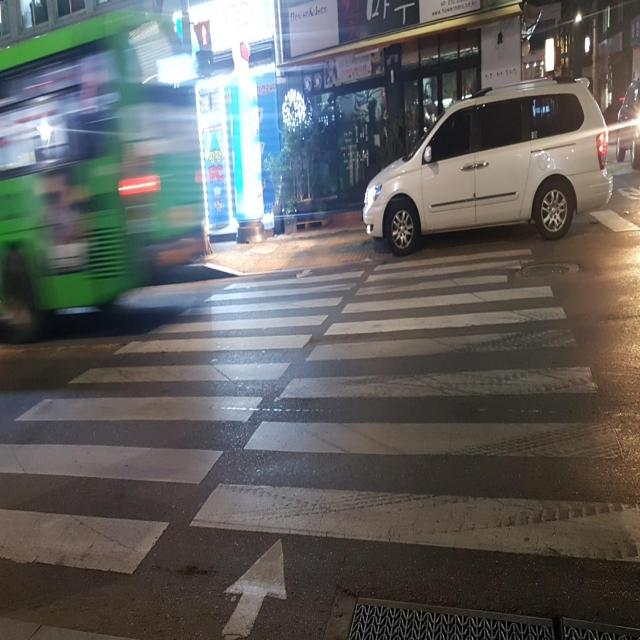빨간불: (193, 21, 215, 76)
횡단보도: (0, 245, 640, 640)
